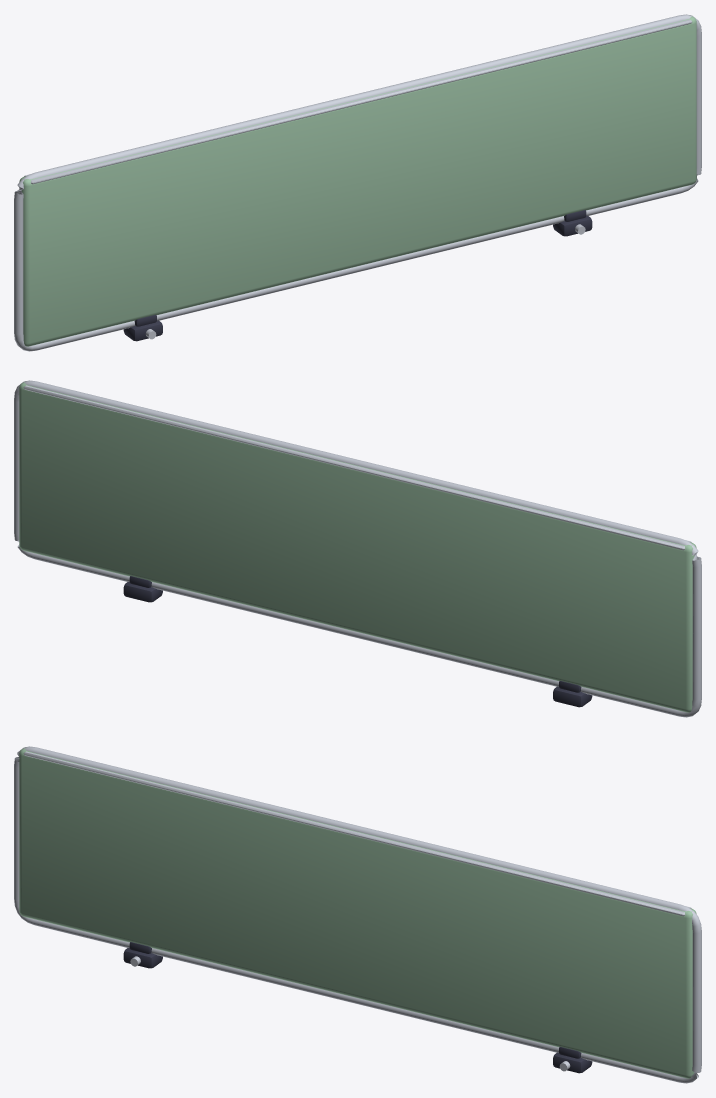
The model's file is desk_divider.glb.
3 renders of one model, top to bottom at view 1: azimuth 30°, elevation 25°; view 2: azimuth 150°, elevation 25°; view 3: azimuth 330°, elevation 25°, orthographic.
Parts seen in each view (by area): view 1: accent_felt, frame, charcoal; view 2: accent_felt, frame, charcoal; view 3: accent_felt, frame, charcoal.
Part boxes in pixels (x1,y1,x2,y2): accent_felt: (19,15,696,346); frame: (14,14,701,351); charcoal: (123,210,592,341); accent_felt: (19,381,696,712); frame: (14,380,701,717); charcoal: (123,576,592,707); accent_felt: (19,747,696,1078); frame: (14,746,701,1083); charcoal: (123,942,592,1073).
Size of the model in its own units: 1.6 by 0.4195 by 0.062.
